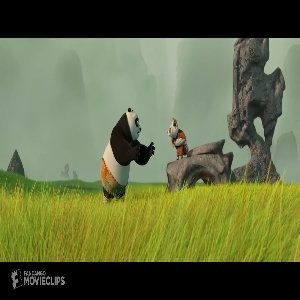po: (97, 102, 156, 202)
shifu: (164, 114, 190, 159)
